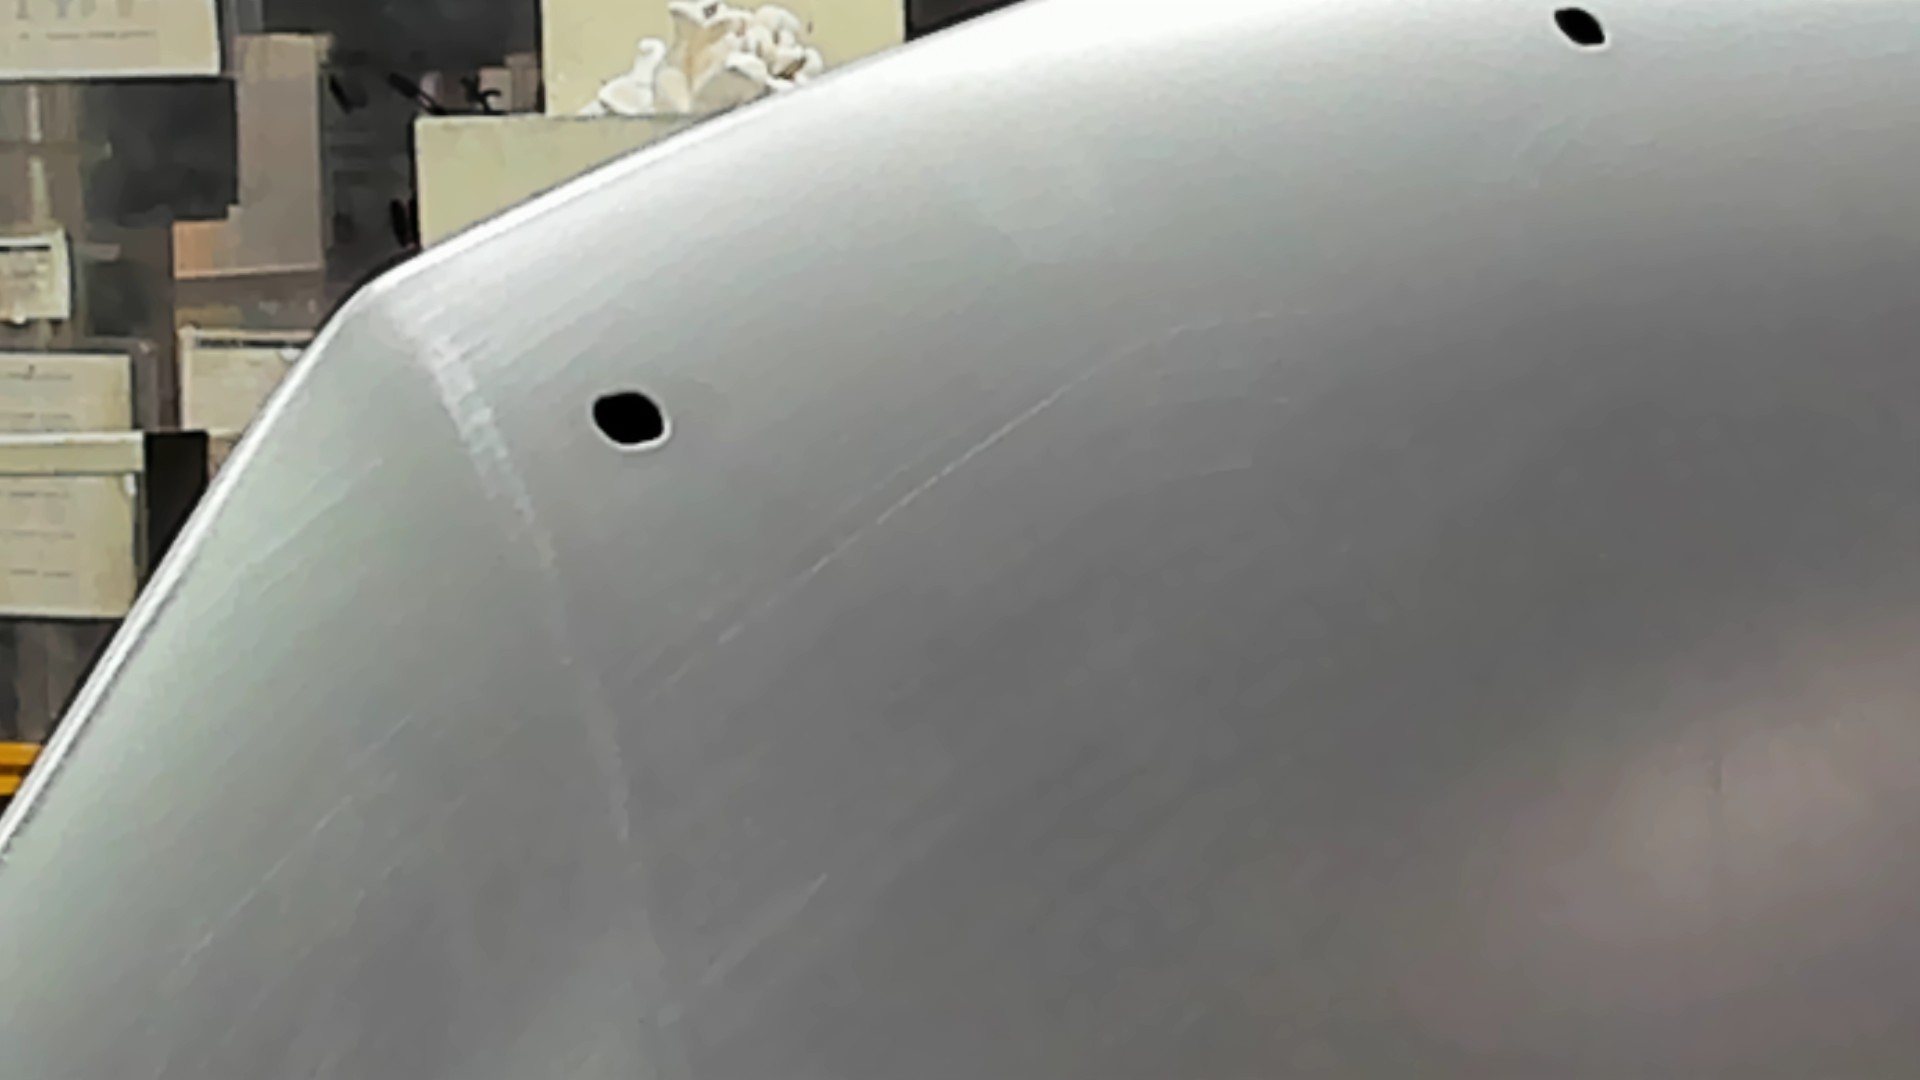amorfo: (588, 386, 673, 454), (1545, 4, 1615, 58)
